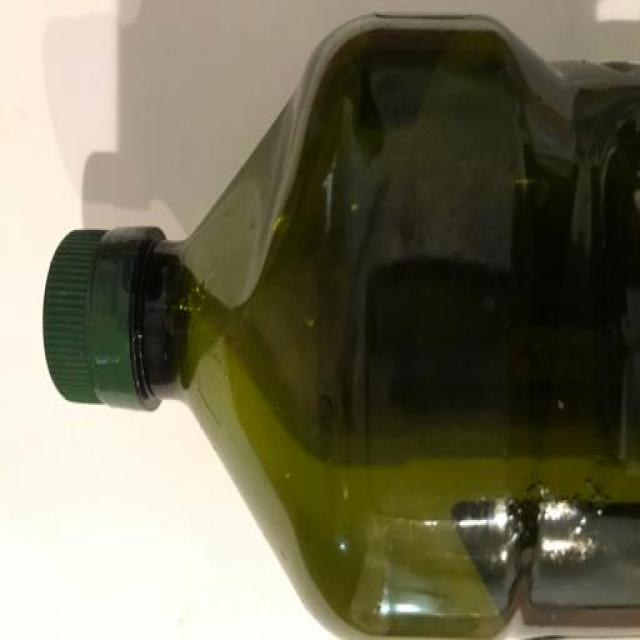Plastic: (33, 0, 640, 640), (35, 225, 166, 418)
